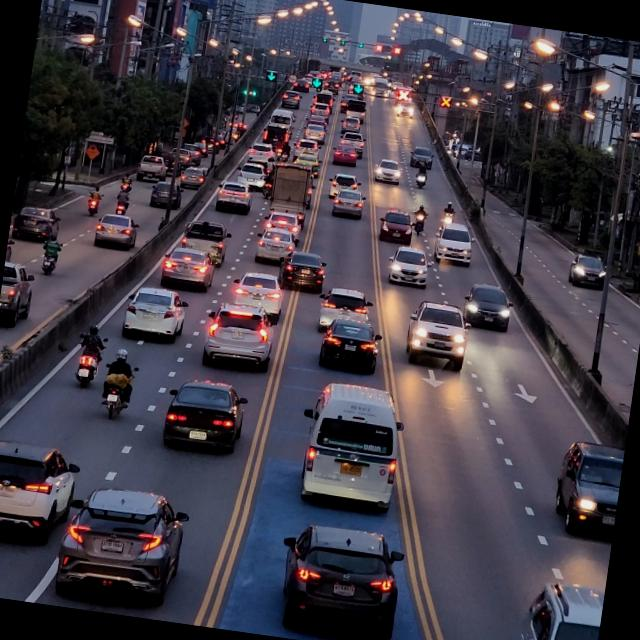Vehicle: (50, 481, 202, 618), (267, 521, 413, 640), (298, 381, 412, 514), (0, 438, 80, 543), (161, 376, 253, 457), (554, 438, 626, 540), (201, 300, 281, 374), (513, 578, 605, 640), (404, 300, 474, 372), (118, 284, 196, 346), (313, 316, 385, 376), (314, 282, 378, 340), (231, 268, 292, 324), (460, 280, 518, 336), (0, 258, 42, 335), (97, 212, 140, 252)
